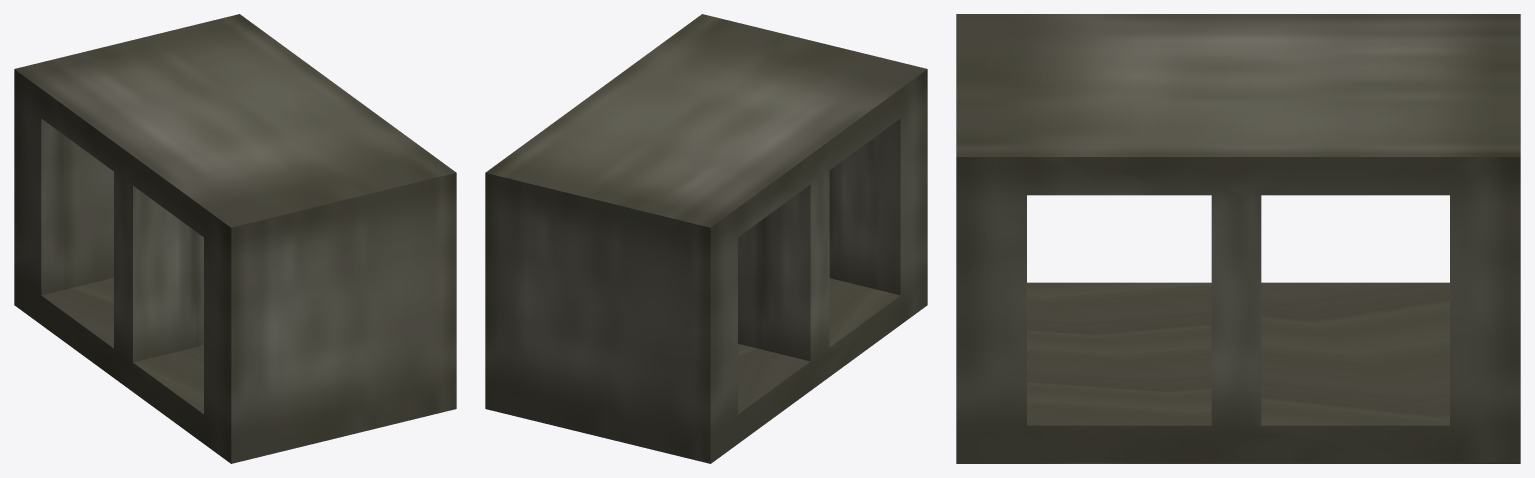
The model's file is brick.fbx.
3 renders of one model, left to right at view 1: azimuth 30°, elevation 25°; view 2: azimuth 150°, elevation 25°; view 3: azimuth 270°, elevation 25°, orthographic. The views are drawn at different scales.
Parts seen in each view (by area): view 1: Cube.002; view 2: Cube.002; view 3: Cube.002.
Part boxes in pixels (x1,y1,x2,y2): Cube.002: [14, 14, 456, 463]; Cube.002: [485, 14, 927, 463]; Cube.002: [956, 14, 1520, 463].
Size of the model in its own units: 60 by 60 by 100.
Materials: 1 (1 with a texture image).
